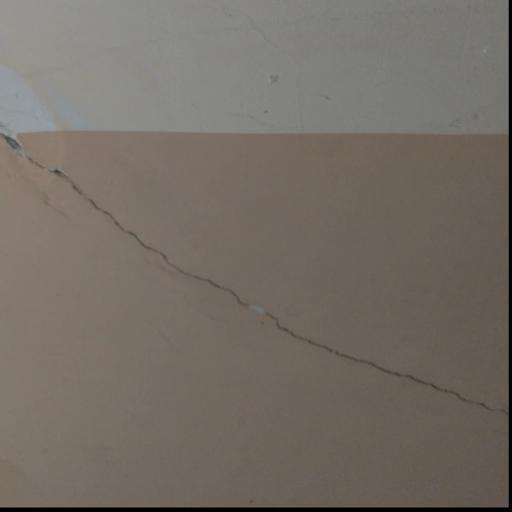major_crack: (0, 85, 506, 426)
